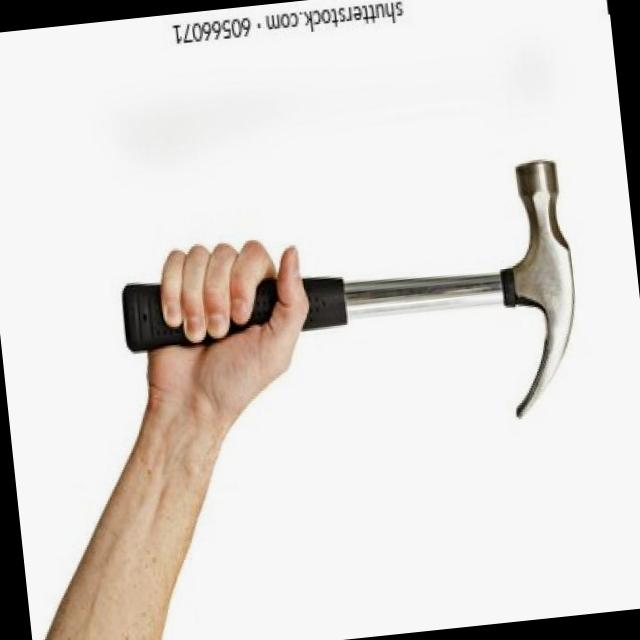hammer: (302, 161, 574, 417), (122, 285, 220, 351), (228, 279, 278, 335)
